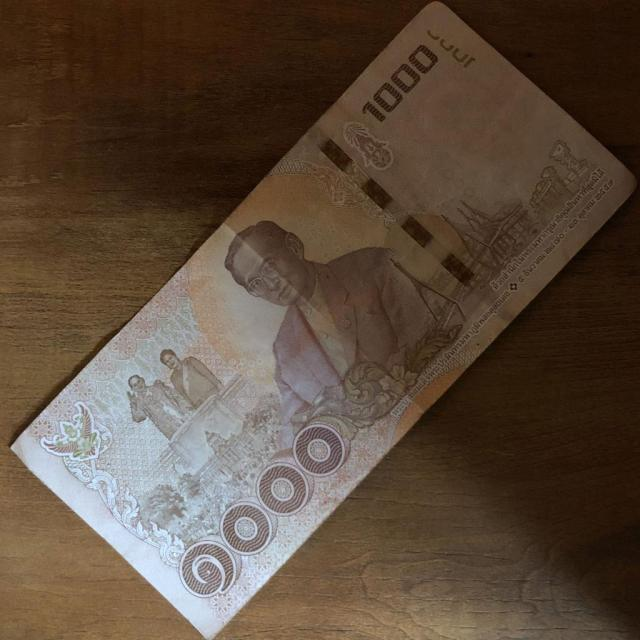THAI1000: (10, 2, 637, 639)
